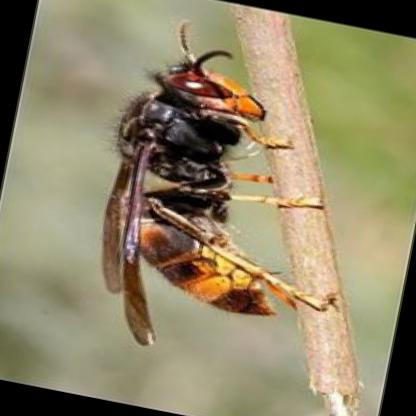asian: (69, 7, 386, 383)
